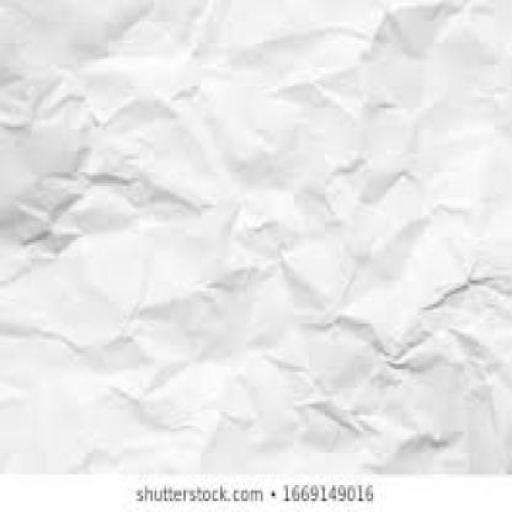paper: (0, 0, 511, 473)
